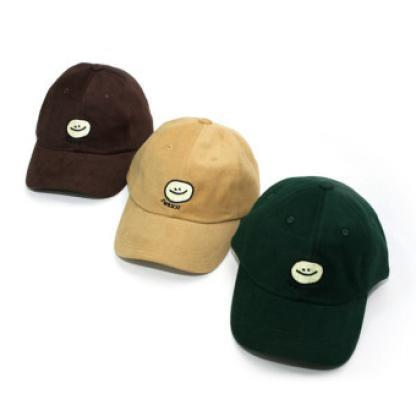cap: (218, 165, 400, 373)
